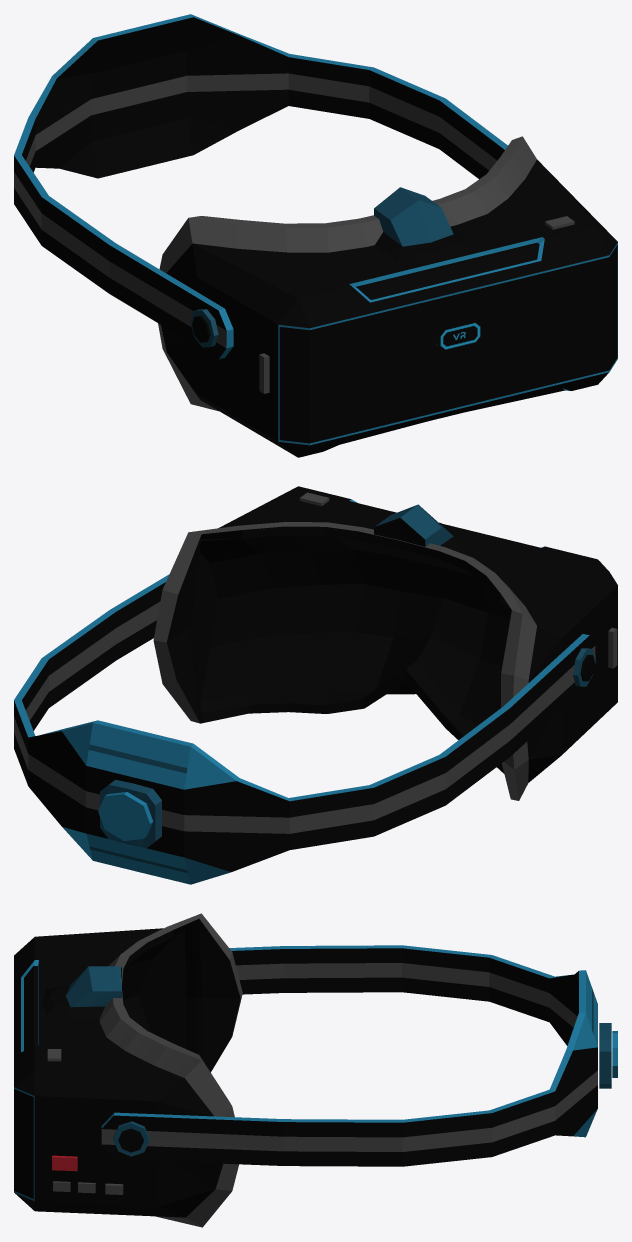
File: NewCollableGlasses.glb
The picture shows the model from 3 angles, top to bottom: view 1: azimuth 30°, elevation 25°; view 2: azimuth 150°, elevation 25°; view 3: azimuth 270°, elevation 25°; orthographic projection. The views are drawn at different scales.
Visible parts, largest first — view 1: Sci-fi lowpoly VR Glasses.001, Strap, Screen, Knots, Buttoms; view 2: Sci-fi lowpoly VR Glasses.001, Strap, Knots, Buttoms; view 3: Sci-fi lowpoly VR Glasses.001, Strap, Screen, Knots, Buttoms.
Boxes of the visible parts, x1=… form: Sci-fi lowpoly VR Glasses.001: x1=158, y1=136, x2=617, y2=457; Strap: x1=14, y1=14, x2=507, y2=359; Screen: x1=278, y1=242, x2=617, y2=445; Knots: x1=190, y1=309, x2=218, y2=347; Buttoms: x1=259, y1=216, x2=574, y2=393; Sci-fi lowpoly VR Glasses.001: x1=153, y1=486, x2=617, y2=800; Strap: x1=14, y1=574, x2=595, y2=884; Knots: x1=98, y1=648, x2=595, y2=848; Buttoms: x1=299, y1=492, x2=617, y2=668; Sci-fi lowpoly VR Glasses.001: x1=14, y1=913, x2=242, y2=1227; Strap: x1=101, y1=945, x2=597, y2=1166; Screen: x1=14, y1=1087, x2=34, y2=1200; Knots: x1=113, y1=1023, x2=617, y2=1156; Buttoms: x1=47, y1=1049, x2=123, y2=1194.
Bounding box in the file's own units: 5.23 × 2.61 × 7.52.
1 material, 1 textured.
